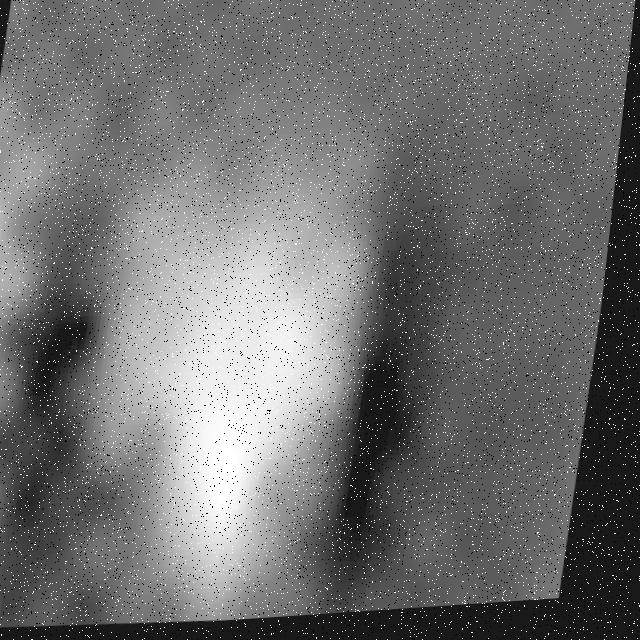person: (54, 88, 413, 635), (1, 53, 68, 627)
